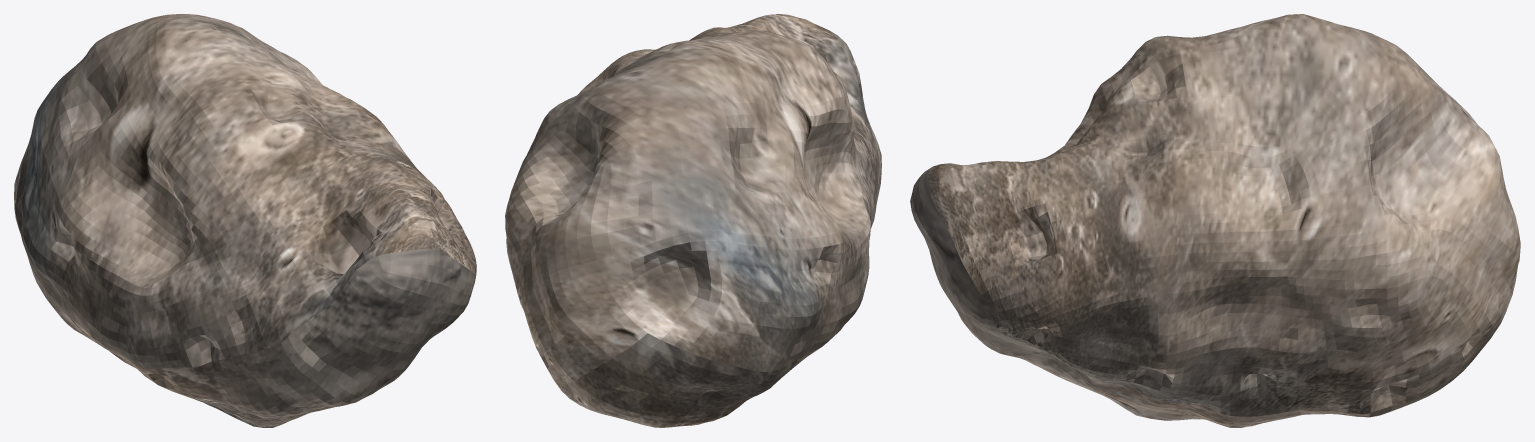
File: asteroid_a.glb
The picture shows the model from 3 angles, left to right: view 1: azimuth 30°, elevation 25°; view 2: azimuth 150°, elevation 25°; view 3: azimuth 270°, elevation 25°; orthographic projection. The views are drawn at different scales.
Parts seen in each view (by area): view 1: Asteroid; view 2: Asteroid; view 3: Asteroid.
Boxes of the visible parts, x1,y1,x2,y2 form: Asteroid: (14,14,476,427); Asteroid: (505,14,881,427); Asteroid: (910,14,1520,427).
Bounding box in the file's own units: 4698 × 5392 × 7741.
1 material, 1 textured.
